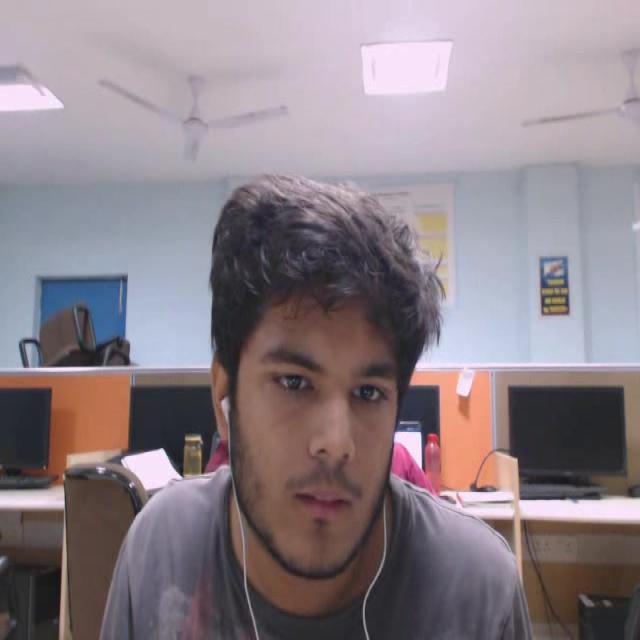Engaged: (200, 138, 451, 606)
